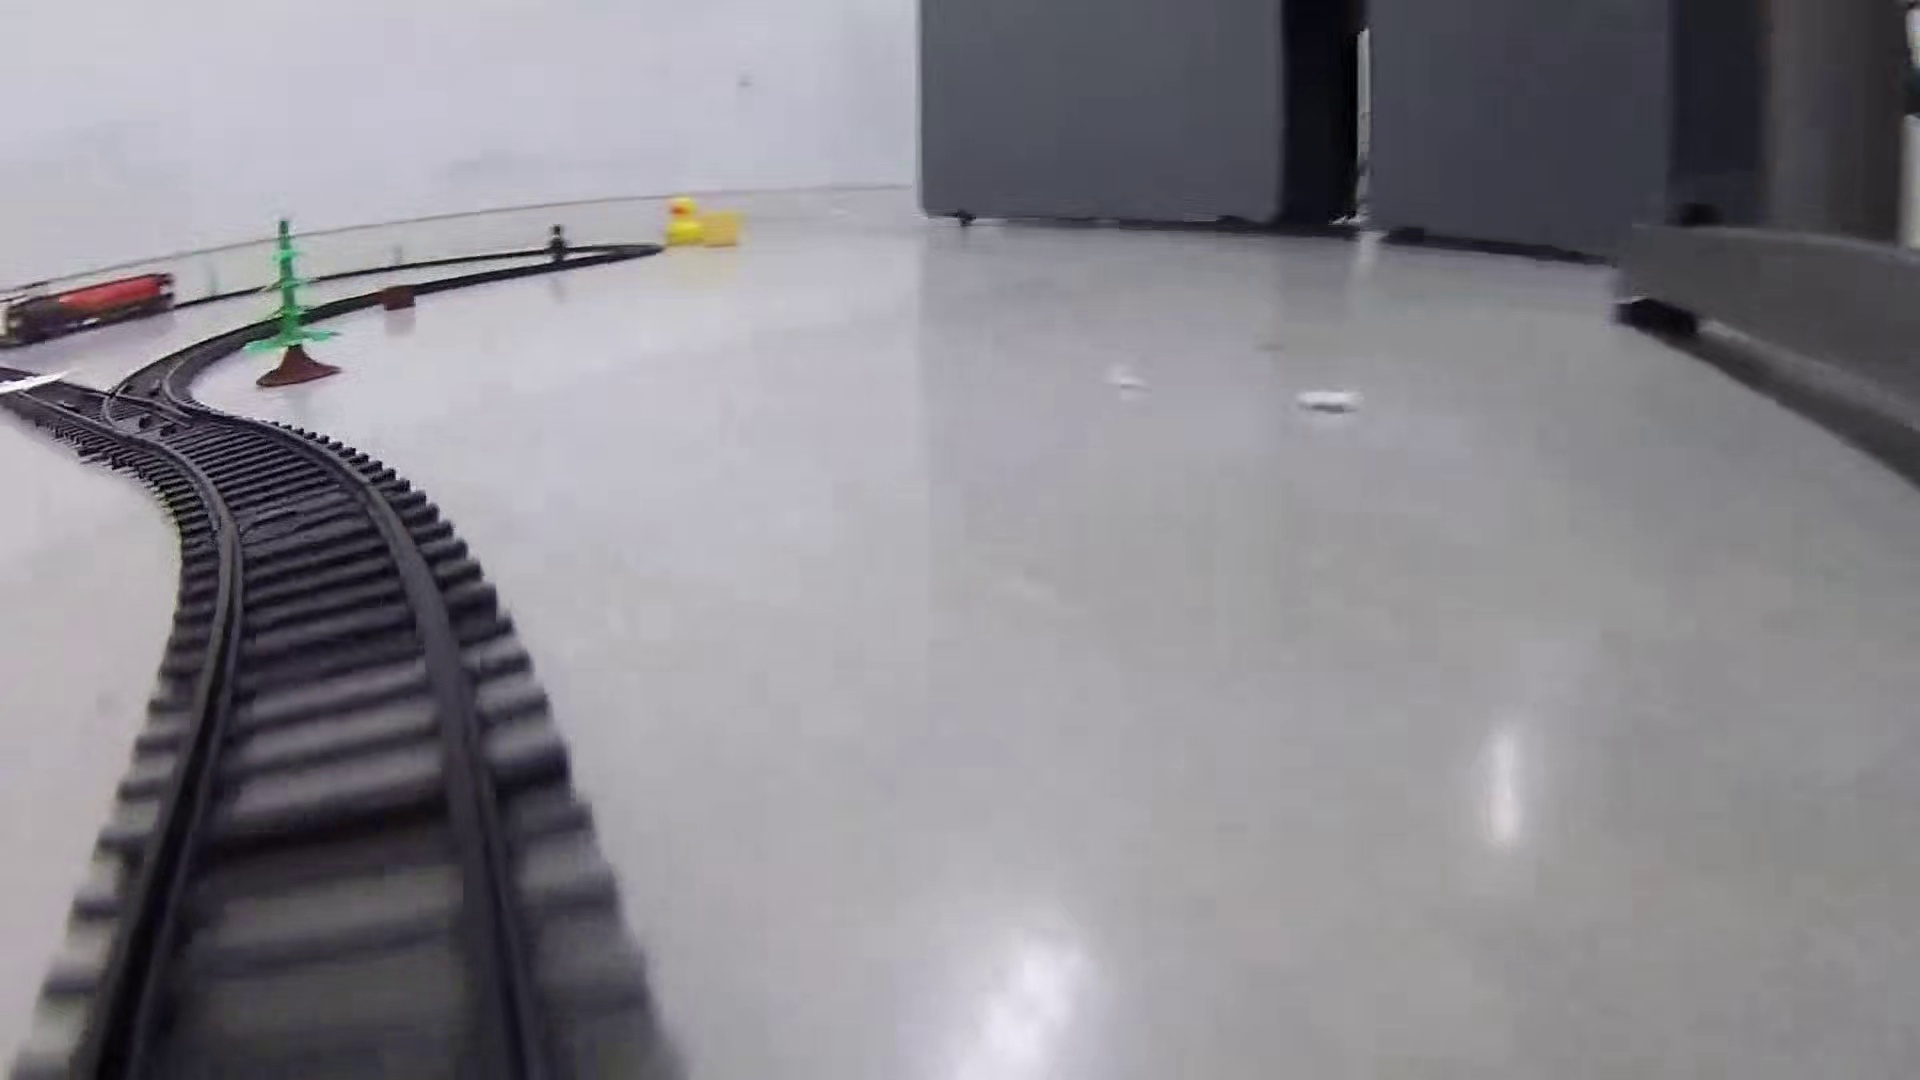box: (378, 280, 417, 314)
people: (543, 219, 572, 272)
tree: (240, 218, 348, 393)
web: (1, 363, 79, 398)
